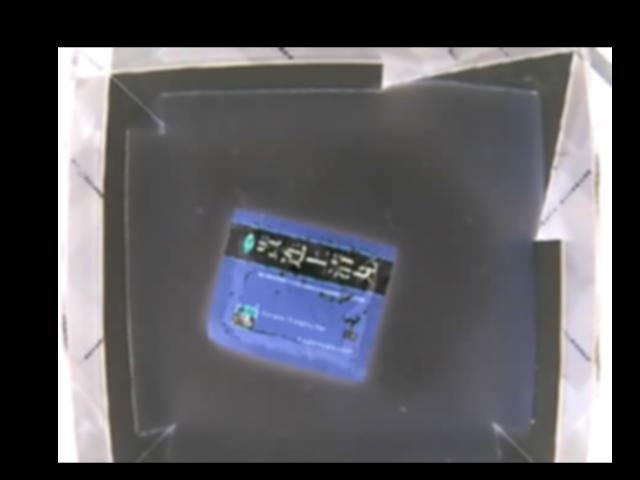Medicine: (207, 209, 393, 380)
